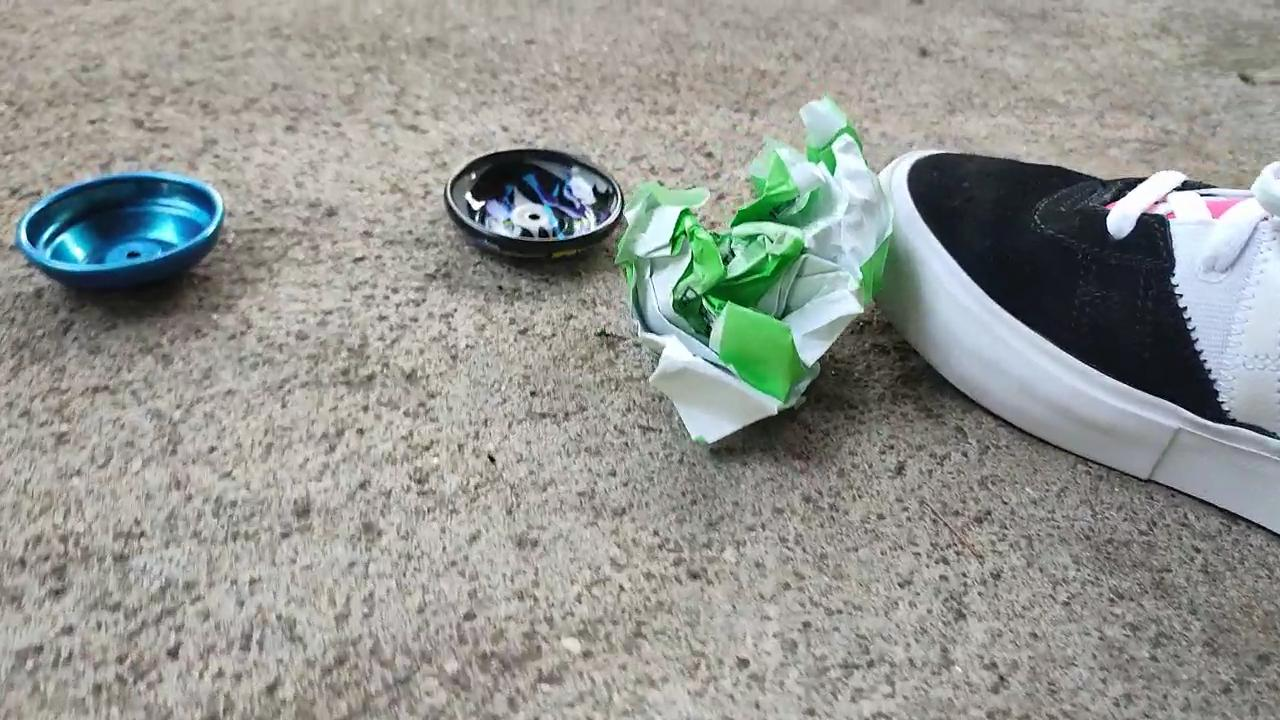Paper: (604, 92, 914, 466)
